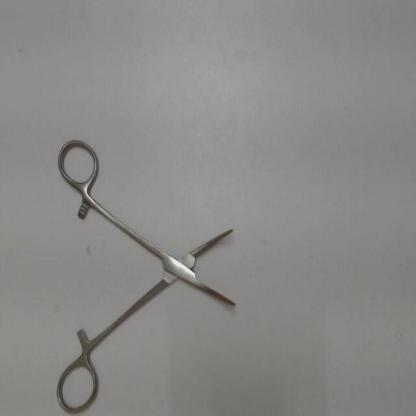Crile Artery Forceps: (51, 134, 245, 414)
